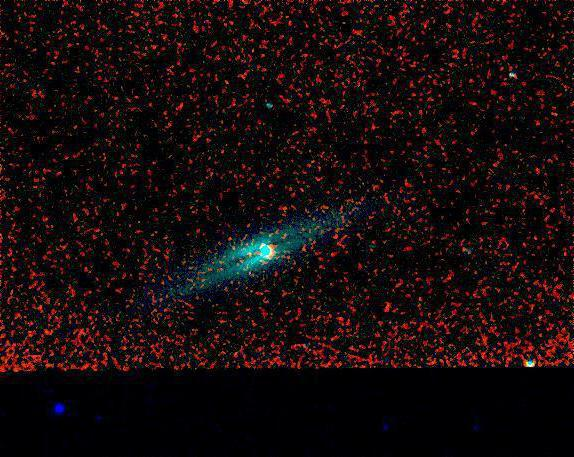star: (369, 293, 399, 323)
